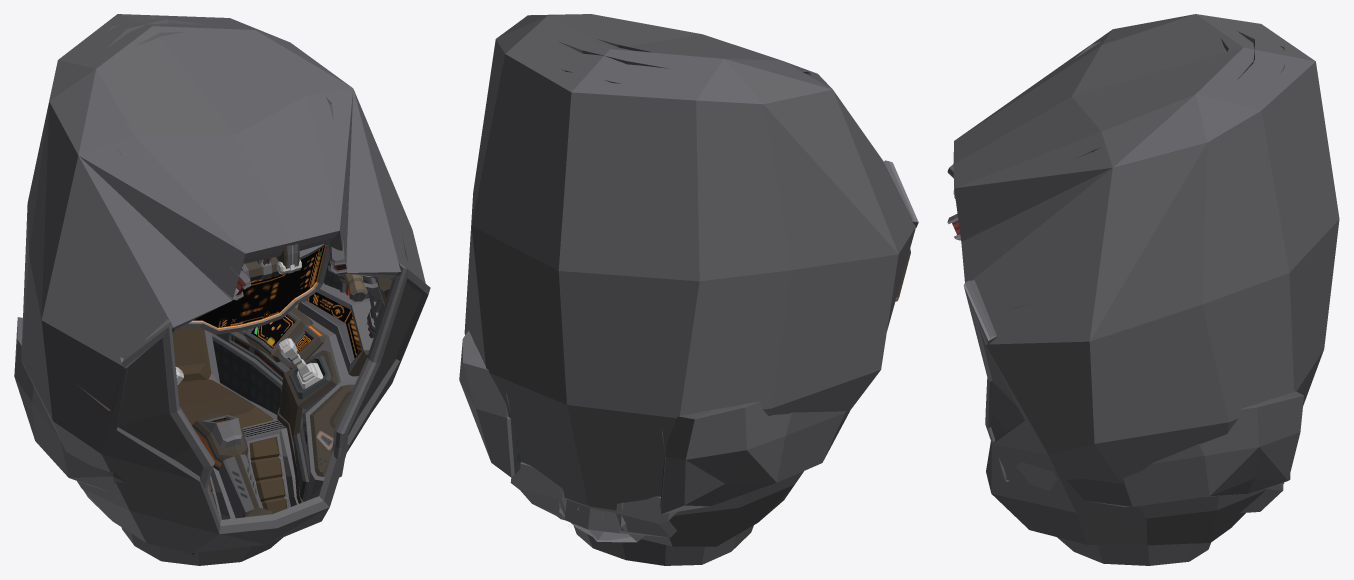
The model's file is SM_Mech_Cockpit_01_Frame_01.fbx.
3 views of the same model, side by side, from view 1: azimuth 30°, elevation 25°; view 2: azimuth 150°, elevation 25°; view 3: azimuth 270°, elevation 25° (orthographic). The views are drawn at different scales.
Visible parts, largest first — view 1: SM_Mech_Cockpit_01_Frame_01, SM_Mech_Cockpit_01_Monitor_04, SM_Mech_Cockpit_01_Monitor_03, SM_Mech_Cockpit_01_Joystick_L_01; view 2: SM_Mech_Cockpit_01_Frame_01; view 3: SM_Mech_Cockpit_01_Frame_01.
Part boxes in pixels (x1,y1,x2,y2): SM_Mech_Cockpit_01_Frame_01: [14, 14, 430, 565]; SM_Mech_Cockpit_01_Monitor_04: [193, 246, 324, 327]; SM_Mech_Cockpit_01_Monitor_03: [182, 242, 329, 334]; SM_Mech_Cockpit_01_Joystick_L_01: [278, 338, 323, 389]; SM_Mech_Cockpit_01_Frame_01: [459, 14, 918, 565]; SM_Mech_Cockpit_01_Frame_01: [947, 14, 1339, 565].
Bounding box in the file's own units: 123 × 150 × 109.
